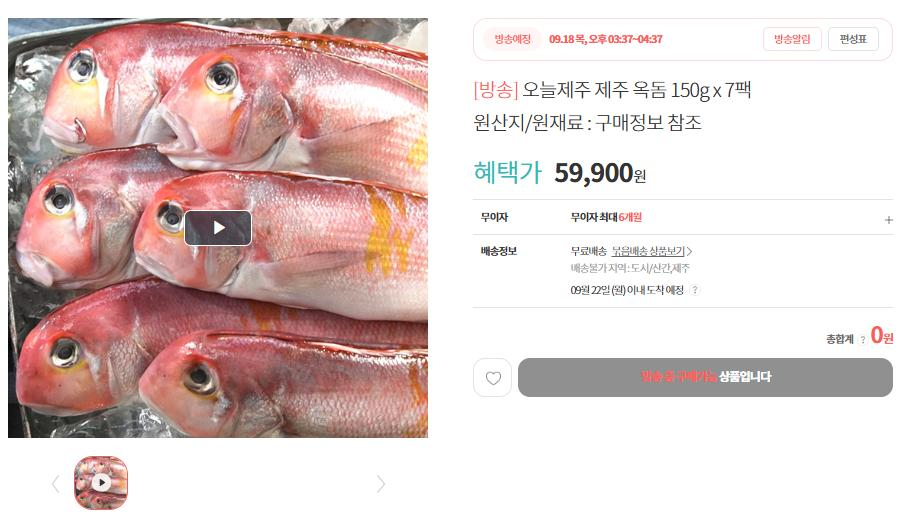button: (517, 357, 887, 397), (74, 459, 128, 509), (473, 360, 513, 396), (765, 26, 820, 50), (831, 31, 876, 50), (883, 212, 897, 228)
